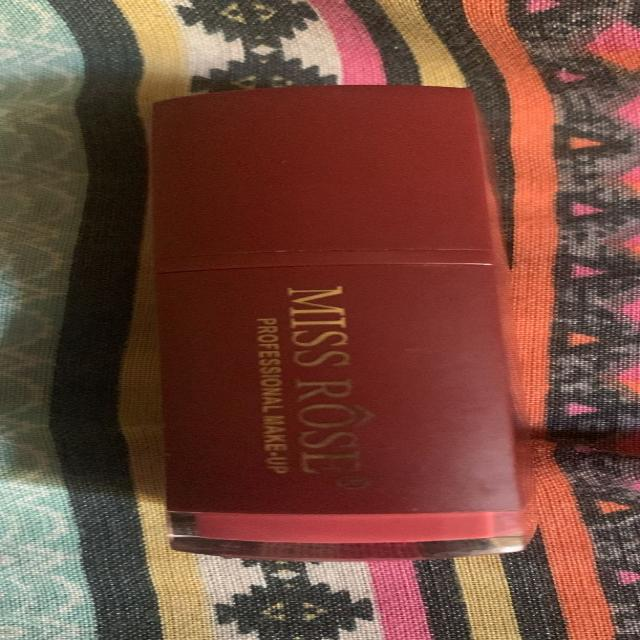blush: (137, 76, 565, 573)
